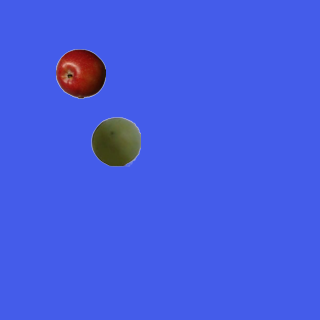Apple Braeburn: (55, 48, 105, 98)
Grape White 4: (90, 116, 140, 166)
